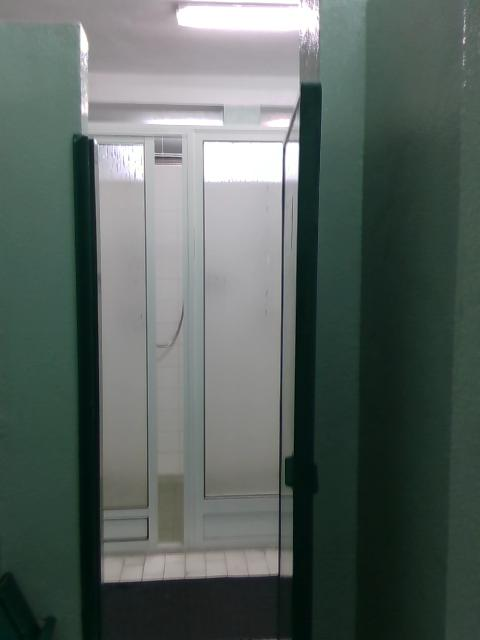open_door: (72, 80, 321, 638)
